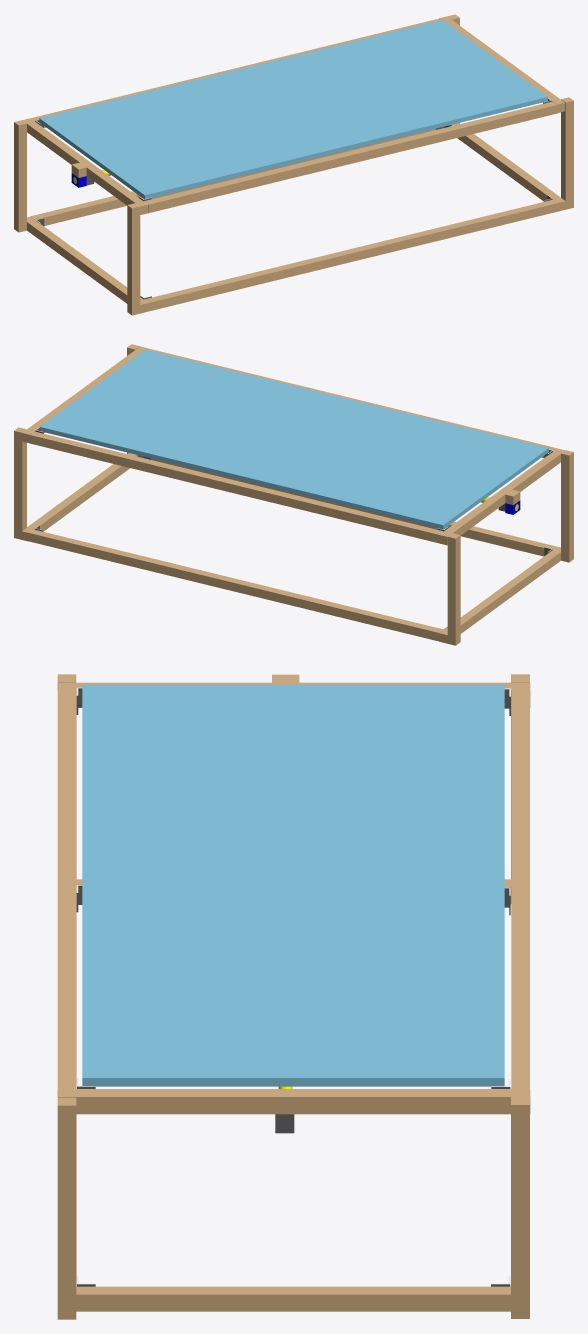
The model's file is pv_panel_mounting_system.dae.
3 views of the same model, one above another, from view 1: azimuth 30°, elevation 25°; view 2: azimuth 150°, elevation 25°; view 3: azimuth 270°, elevation 25° (orthographic). The views are drawn at different scales.
Visible parts, largest first — view 1: SketchUp, long_beams (×4), gridbeam_40mm_horizontal_1.2m (×4), gridbeam_40mm_vertical_0.5m (×3); view 2: SketchUp, long_beams (×4), gridbeam_40mm_horizontal_1.2m (×4), gridbeam_40mm_vertical_0.5m (×3); view 3: SketchUp, gridbeam_40mm_horizontal_1.2m (×3), long_beams (×2), gridbeam_40mm_vertical_0.5m (×2).
Part boxes in pixels (bbox=[...]): SketchUp: bbox=[39, 19, 547, 199]; long_beams (×4): bbox=[30, 18, 557, 311]; gridbeam_40mm_horizontal_1.2m (×4): bbox=[22, 16, 565, 313]; gridbeam_40mm_vertical_0.5m (×3): bbox=[14, 97, 573, 315]; SketchUp: bbox=[39, 349, 548, 529]; long_beams (×4): bbox=[29, 348, 556, 641]; gridbeam_40mm_horizontal_1.2m (×4): bbox=[21, 346, 564, 643]; gridbeam_40mm_vertical_0.5m (×3): bbox=[14, 427, 573, 645]; SketchUp: bbox=[82, 684, 504, 1086]; gridbeam_40mm_horizontal_1.2m (×3): bbox=[58, 682, 530, 1311]; long_beams (×2): bbox=[57, 690, 529, 1097]; gridbeam_40mm_vertical_0.5m (×2): bbox=[57, 1097, 529, 1319].
Size of the model in its own units: 85.04 by 39.41 by 20.65.
